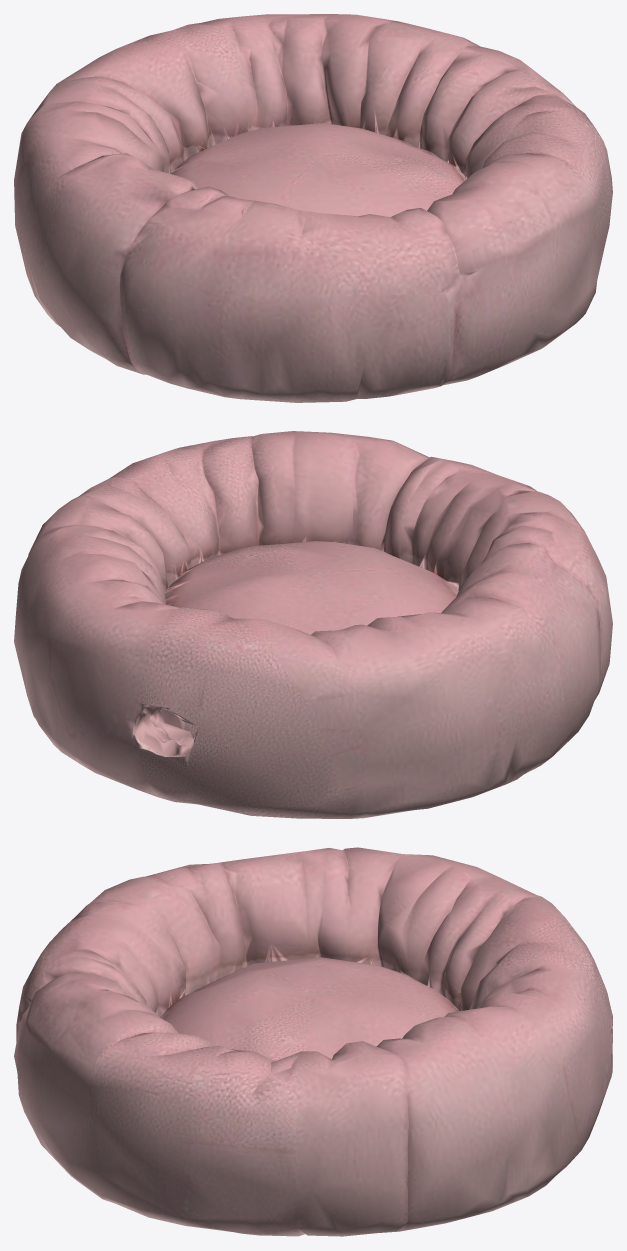
File: bed.glb
3 renders of one model, top to bottom at view 1: azimuth 30°, elevation 25°; view 2: azimuth 150°, elevation 25°; view 3: azimuth 270°, elevation 25°, orthographic.
Size of the model in its own units: 0.887 by 0.2975 by 0.8849.
Materials: 1 (1 with a texture image).
